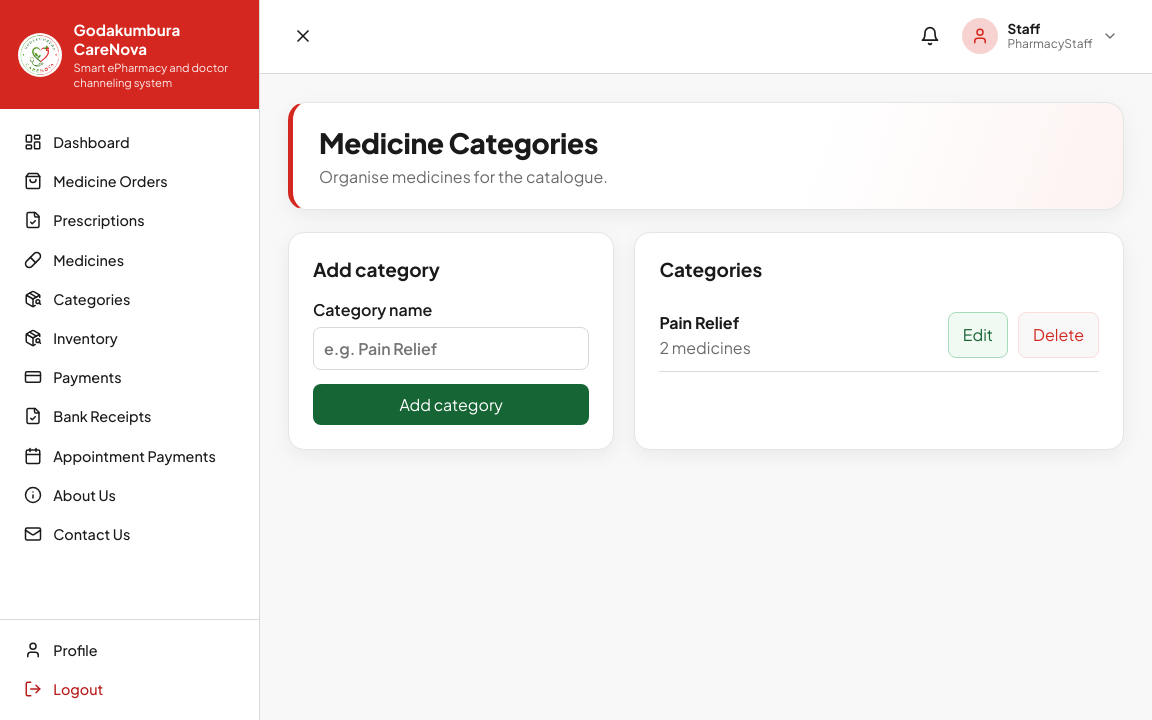
Test: CategoryManagementPage › edit populates the form, delete-in-use shows a warning
Expected: the text "Pain Relief" is shown, [659,312,751,333]
Click the button "Edit".
click(978, 335)  # box [948,312,1008,358]
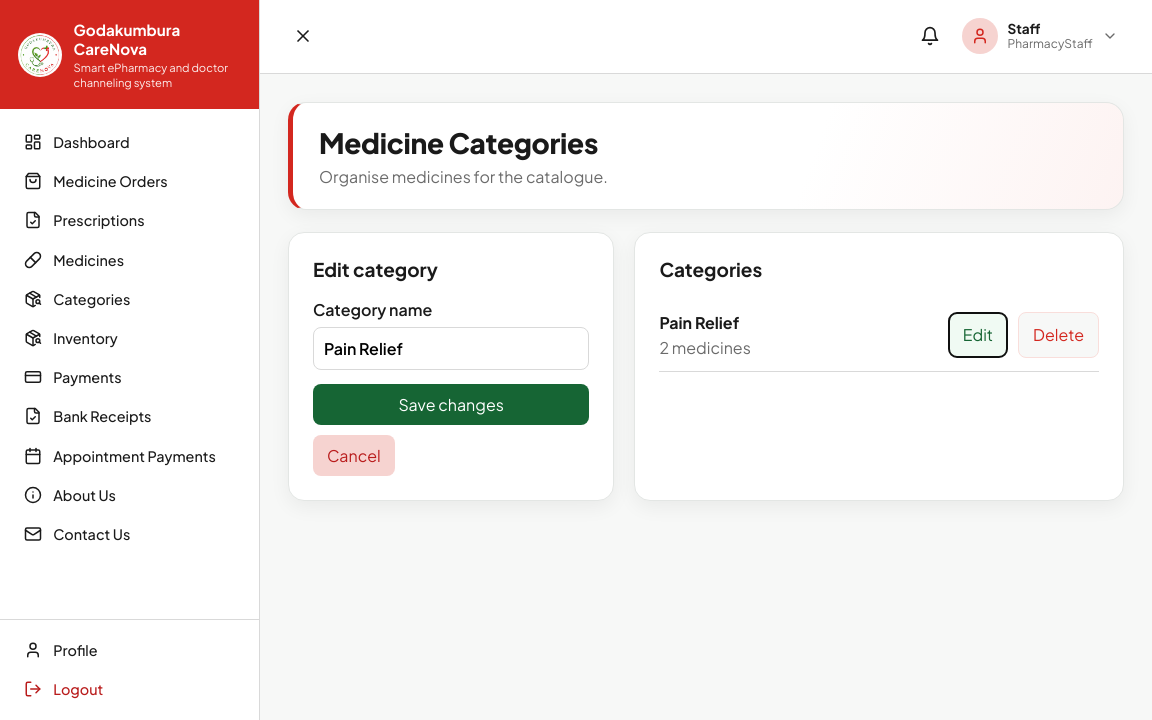
Expected: the field showing "Pain Relief" is shown, [313,327,589,370]
Click the button "Delete".
click(1058, 335)  # box [1018,312,1099,358]
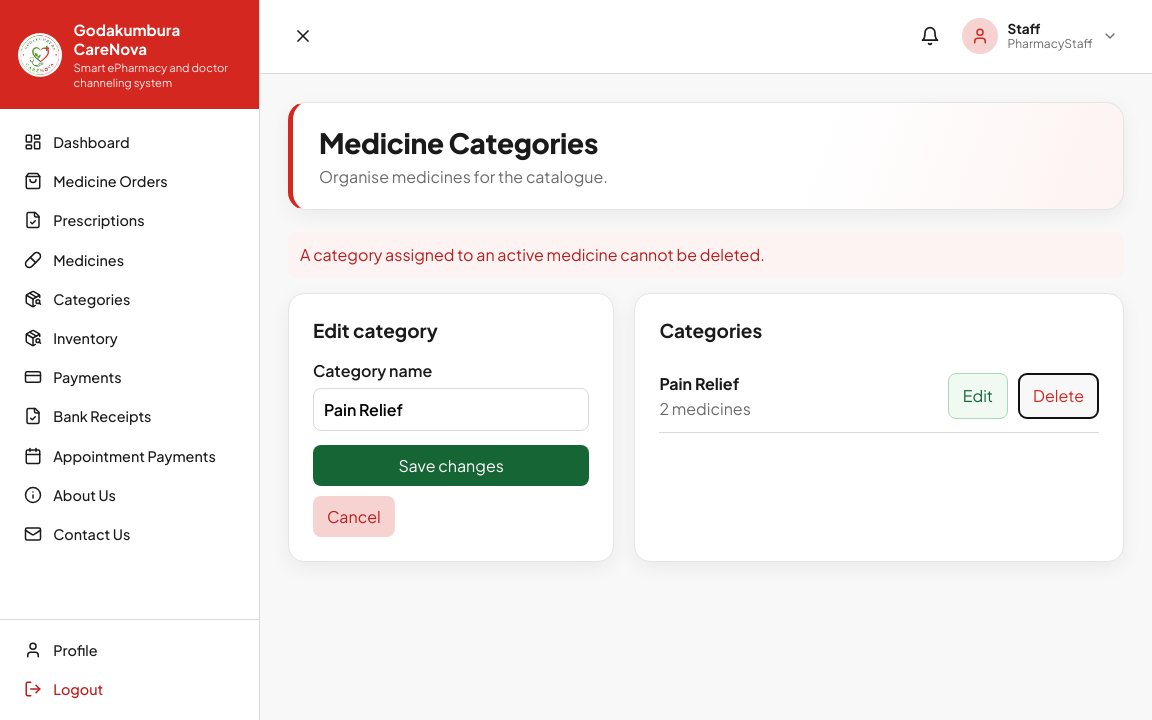
Now the text "A category assigned to an active medicine cannot be deleted." is shown, box [288,232,1124,277]
